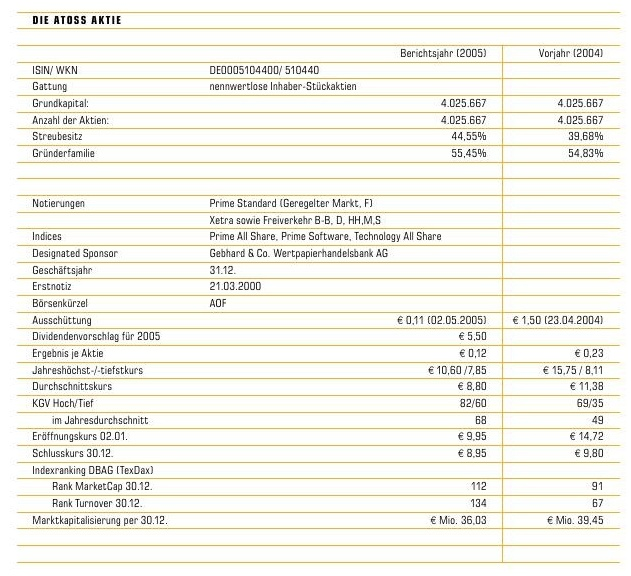table: (0, 0, 631, 576)
